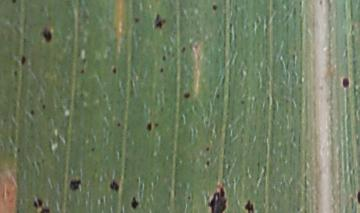tarspot: (208, 186, 227, 213), (153, 11, 166, 30), (41, 26, 52, 43), (68, 178, 81, 192), (108, 179, 120, 193), (244, 199, 255, 213), (129, 195, 139, 210), (341, 75, 350, 90), (19, 54, 27, 67), (39, 101, 47, 112), (145, 121, 152, 133), (182, 91, 191, 100), (36, 197, 44, 207), (355, 190, 360, 205), (131, 16, 139, 25), (79, 56, 87, 65), (37, 207, 49, 213), (110, 64, 117, 74), (28, 108, 35, 118), (78, 67, 86, 75), (238, 98, 246, 106), (152, 122, 159, 130), (179, 46, 186, 54), (12, 69, 19, 77), (115, 120, 122, 128), (15, 146, 22, 154), (211, 3, 217, 12), (32, 200, 38, 209), (204, 145, 211, 152), (158, 66, 165, 73), (89, 146, 96, 153), (160, 54, 166, 62), (214, 92, 220, 99), (205, 159, 210, 167), (186, 194, 191, 201), (318, 1, 323, 6), (10, 1, 16, 4)
